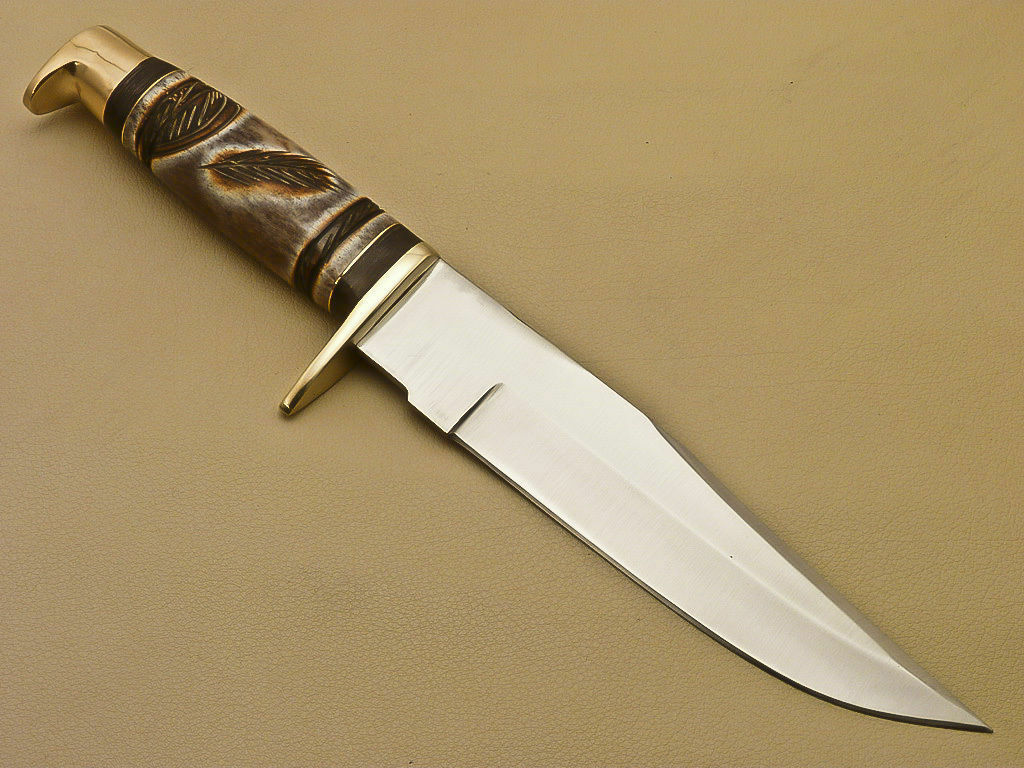knief: (28, 19, 1007, 728)
